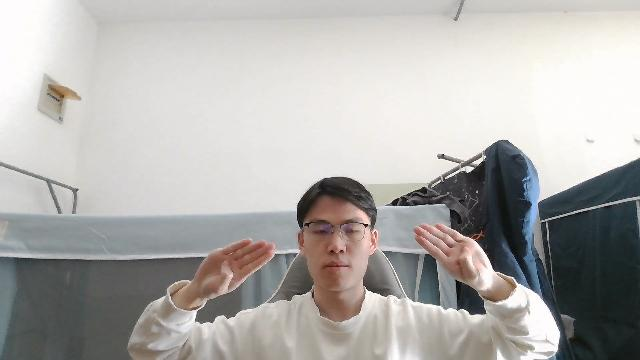four: (182, 236, 281, 304), (409, 221, 496, 293)
